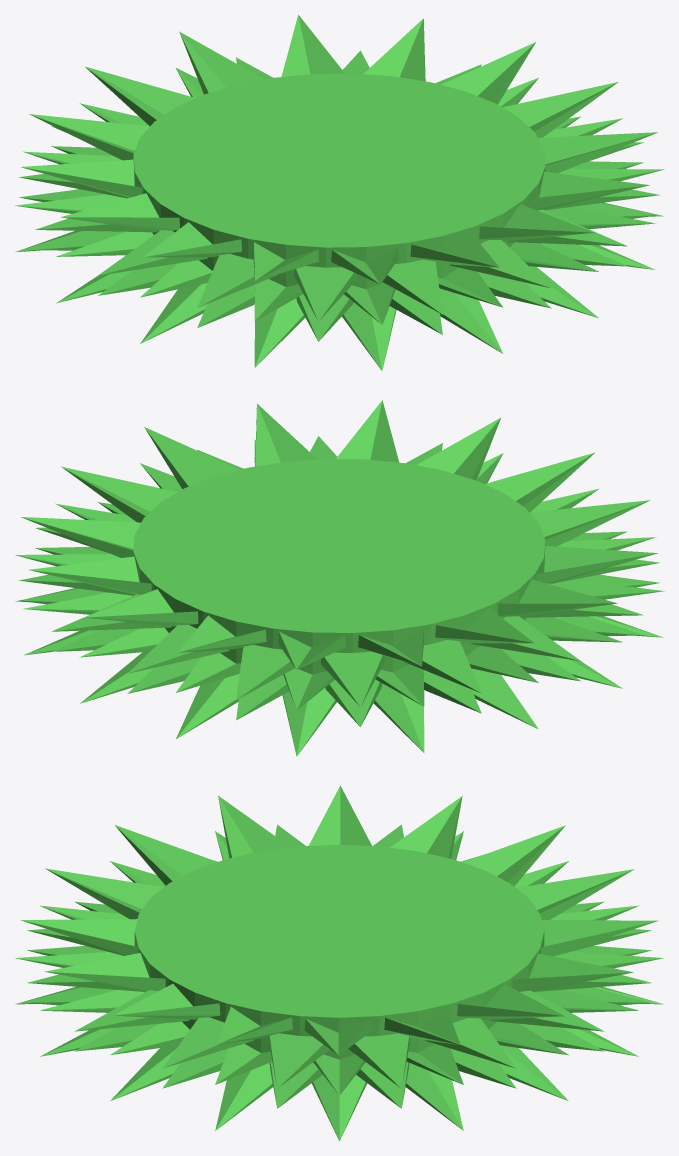
Rendered from CartoonBrushSawBladeImport.fbx.
3 renders of one model, top to bottom at view 1: azimuth 30°, elevation 25°; view 2: azimuth 150°, elevation 25°; view 3: azimuth 270°, elevation 25°, orthographic.
Parts seen in each view (by area): view 1: Mesh; view 2: Mesh; view 3: Mesh.
Part boxes in pixels (x1,y1,x2,y2): Mesh: [15, 15, 664, 370]; Mesh: [15, 400, 664, 756]; Mesh: [14, 785, 664, 1141].
Bounding box in the file's own units: 18.24 × 2.6 × 18.24.
